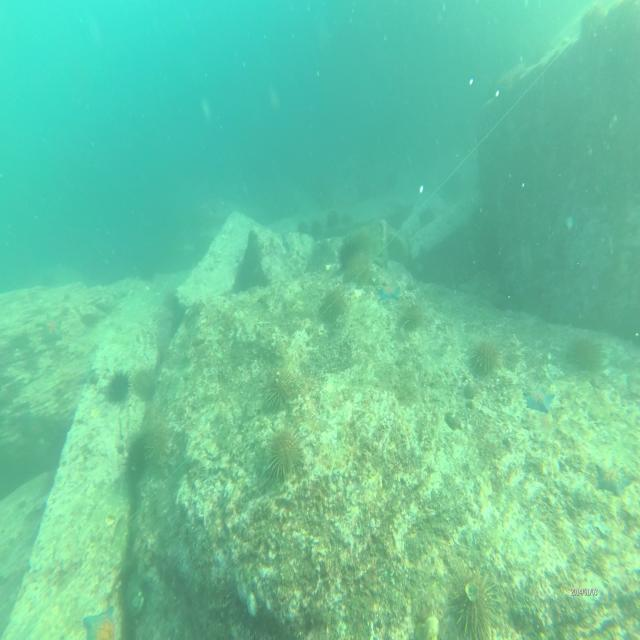echinus: (442, 566, 498, 638), (264, 428, 305, 482), (142, 414, 182, 462), (264, 358, 300, 411), (566, 331, 609, 375), (121, 430, 154, 486), (470, 334, 499, 380), (106, 365, 134, 399), (318, 283, 342, 321), (337, 231, 358, 267), (352, 254, 373, 288), (352, 224, 373, 254), (406, 300, 426, 331)
starfish: (594, 457, 630, 500), (82, 599, 116, 640), (524, 378, 555, 413), (36, 312, 64, 346), (373, 276, 402, 306)
